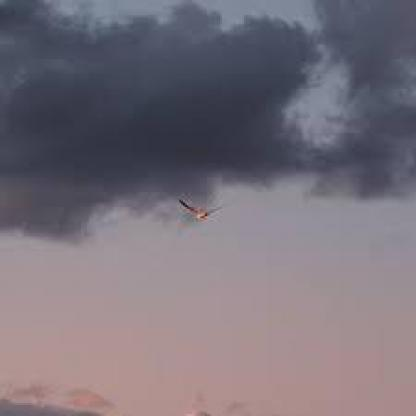bird: (150, 193, 250, 236)
